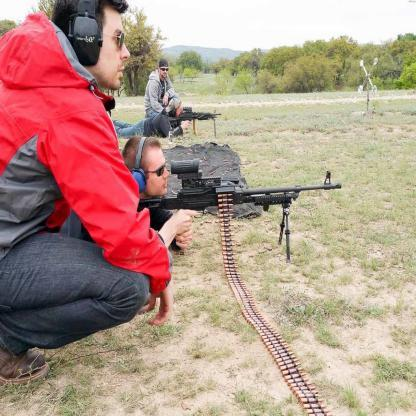Gun: (138, 148, 348, 270), (167, 103, 219, 138)
